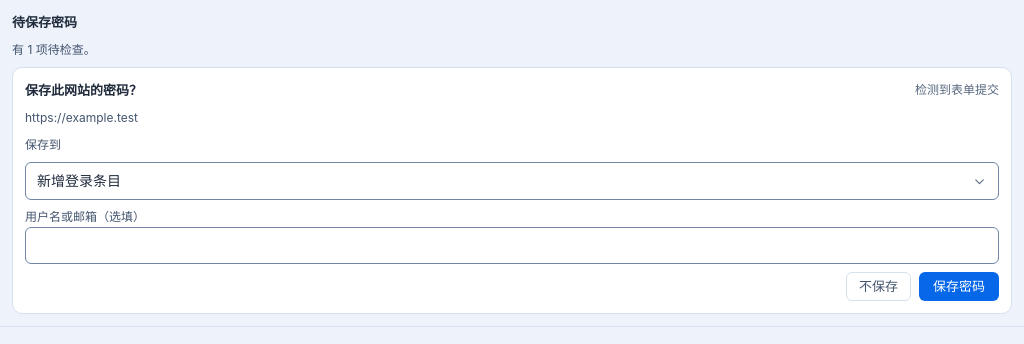
Test: restores the original action after a failed dismiss refresh replaces a revised capture
What coordinates should you click on to do the following:
click the button "不保存"
I would click on:
 (878, 287)
Its box is [846,272,911,301].
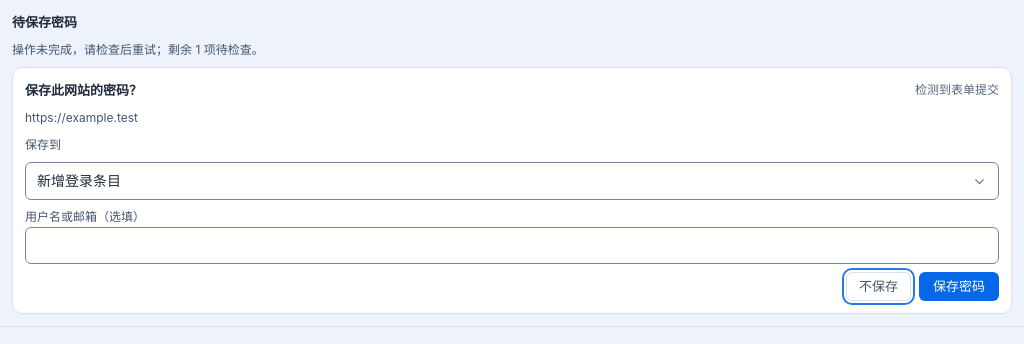
Check: the message "操作未完成，请检查后重试；剩余 1 项待检查。" is shown, box [12,42,264,57]
